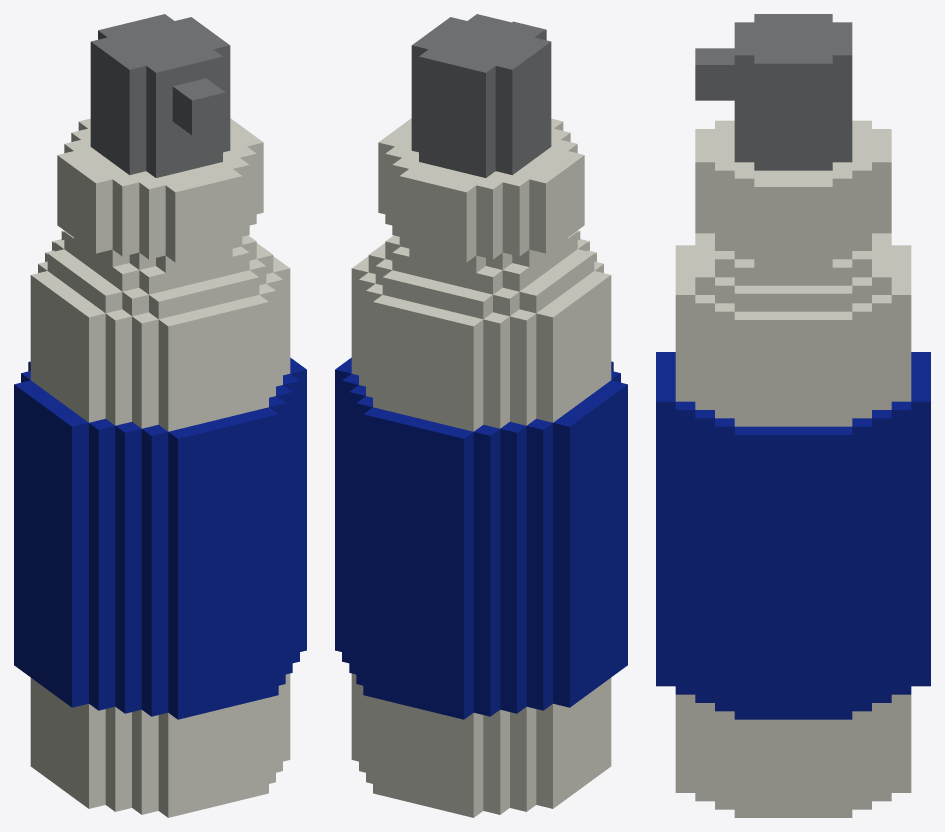
The model's file is liq_bandage_spray.glb.
3 views of the same model, side by side, from view 1: azimuth 30°, elevation 25°; view 2: azimuth 150°, elevation 25°; view 3: azimuth 270°, elevation 25° (orthographic).
Visible parts, largest first — view 1: liq_bandage_spray:compound; view 2: liq_bandage_spray:compound; view 3: liq_bandage_spray:compound.
Boxes of the visible parts, box(x1,y1,x2,y2) form: liq_bandage_spray:compound: box(14, 14, 306, 817); liq_bandage_spray:compound: box(335, 14, 627, 817); liq_bandage_spray:compound: box(656, 14, 930, 817).
Size of the model in its own units: 0.028 by 0.082 by 0.028.
